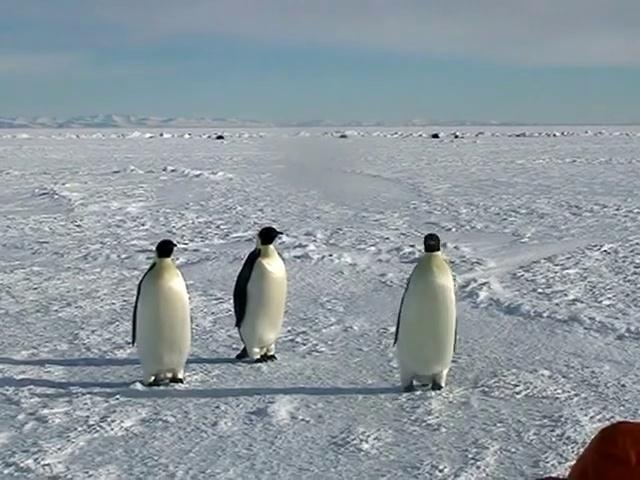animal: (395, 235, 457, 392)
